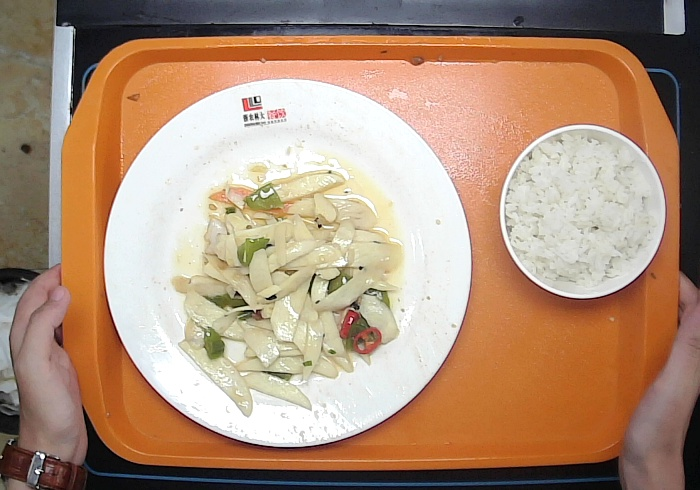ZNLD-Da_Yuan_Pan: (101, 77, 475, 450)
ZNLD-Fan_Wan: (498, 122, 668, 303)
